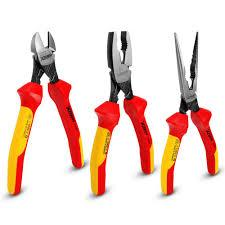pliers: (5, 29, 84, 194), (88, 29, 154, 195), (159, 30, 218, 194)
